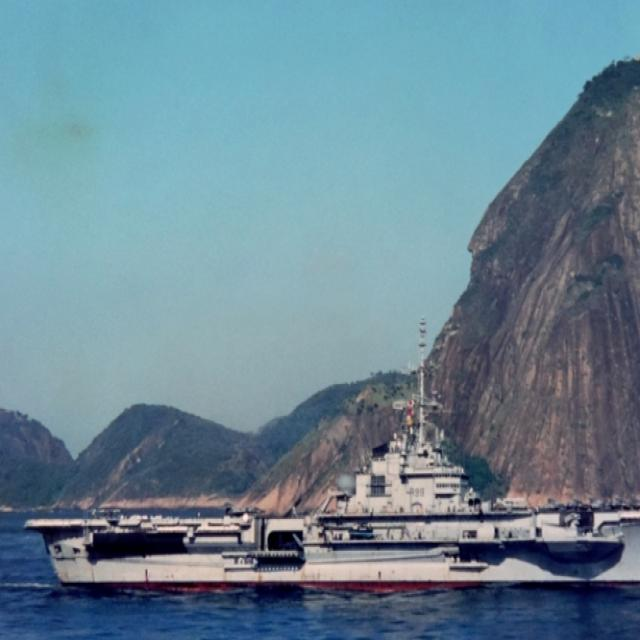Portanaves: (24, 314, 640, 603)
